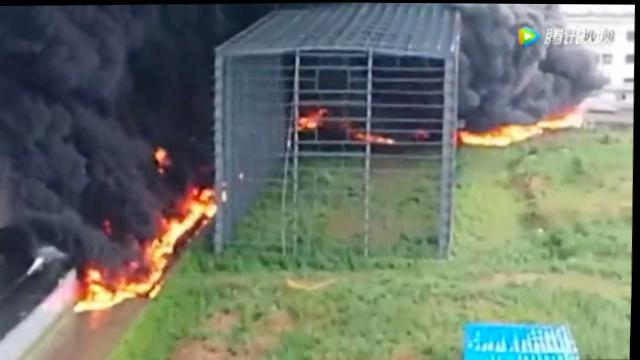fire: (75, 283, 119, 308), (148, 238, 171, 277), (462, 129, 508, 144), (120, 279, 155, 296), (503, 122, 541, 137), (540, 115, 580, 128), (201, 190, 219, 217), (184, 198, 201, 225), (166, 217, 185, 238), (89, 267, 103, 282), (299, 115, 318, 126), (157, 147, 167, 161)
